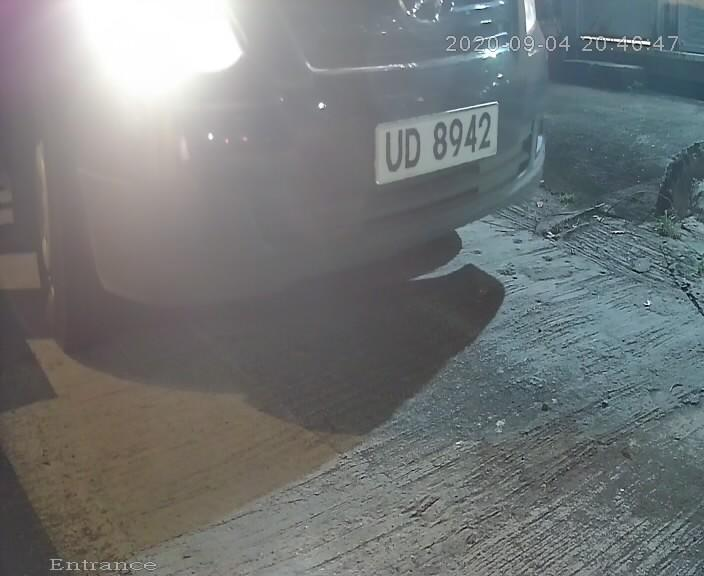License Plate: (362, 93, 507, 191)
